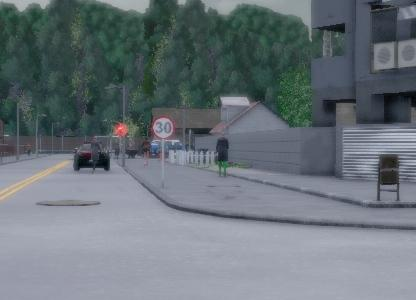Speed_30: (150, 114, 175, 142)
